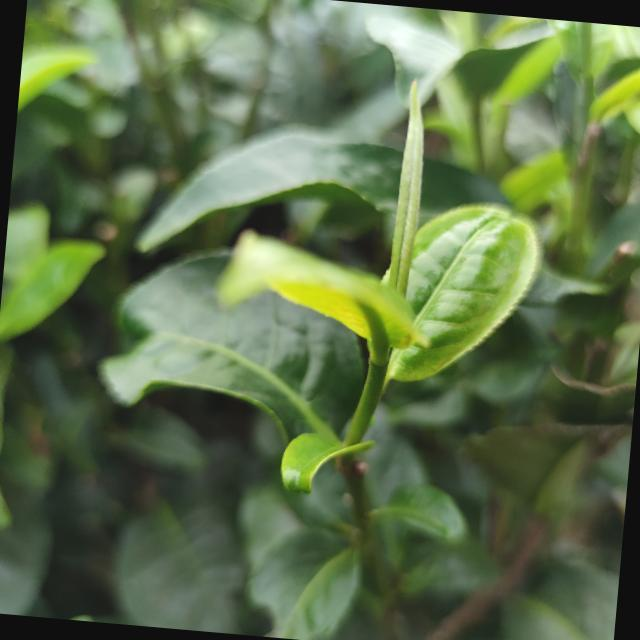Stem: (366, 363, 387, 385)
